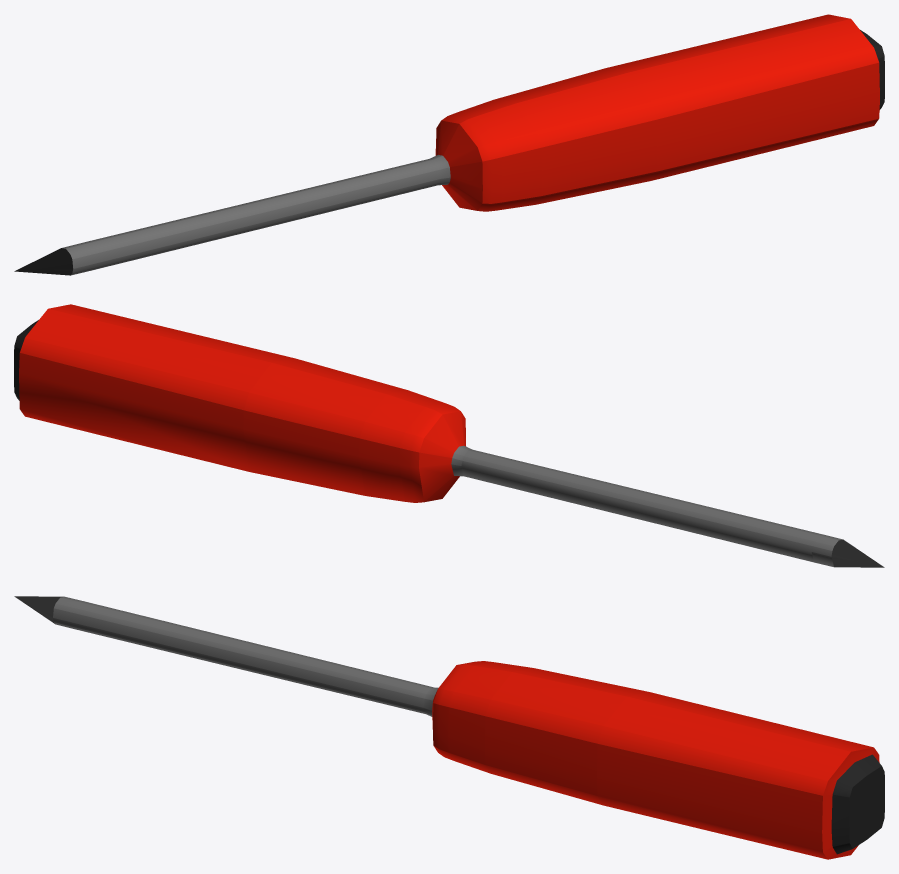
File: screwdriver.fbx
3 views of the same model, one above another, from view 1: azimuth 30°, elevation 25°; view 2: azimuth 150°, elevation 25°; view 3: azimuth 330°, elevation 25° (orthographic).
Visible parts, largest first — view 1: Cube; view 2: Cube; view 3: Cube.
Boxes of the visible parts, <box> form: Cube: <box>14,14,884,275</box>; Cube: <box>14,304,884,567</box>; Cube: <box>14,596,884,859</box>.
Bounding box in the file's own units: 1705 × 199 × 202.
